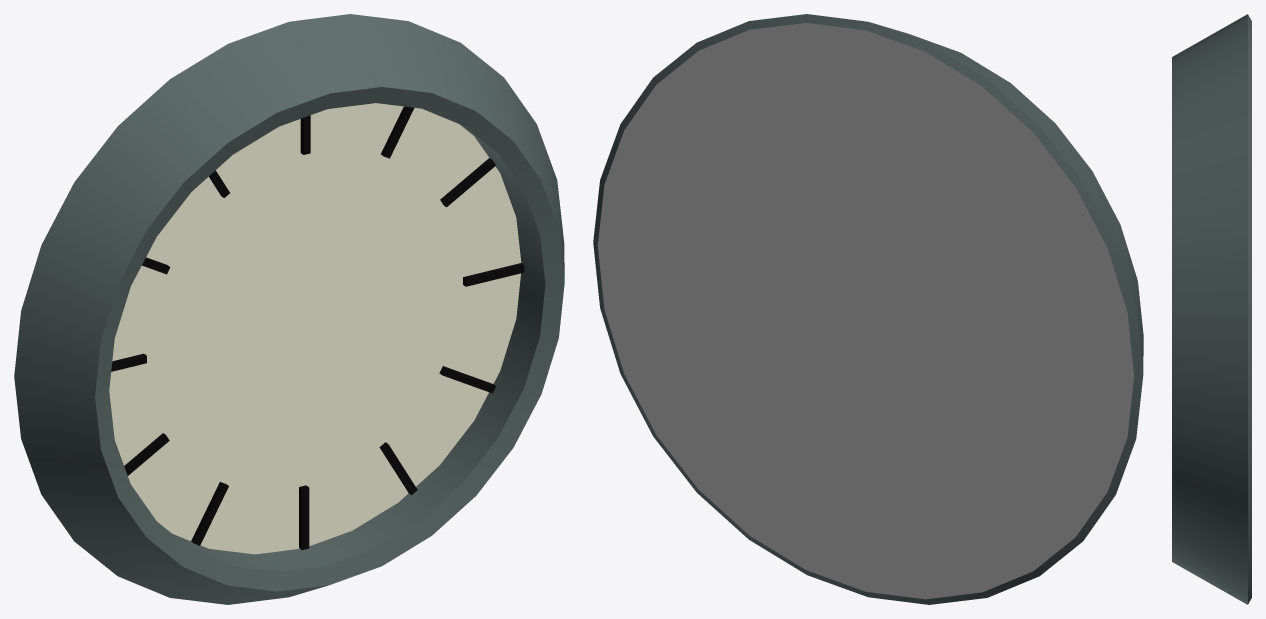
Rendered from reloj.obj.
3 renders of one model, left to right at view 1: azimuth 30°, elevation 25°; view 2: azimuth 150°, elevation 25°; view 3: azimuth 270°, elevation 25°, orthographic. The views are drawn at different scales.
Visible parts, largest first — view 1: polySurface75; view 2: polySurface75; view 3: polySurface75.
Part boxes in pixels (box(x1,y1,x2,y2)): polySurface75: box(14, 14, 564, 604); polySurface75: box(593, 14, 1143, 604); polySurface75: box(1172, 14, 1251, 604).
Bounding box in the file's own units: 2.62 × 2.62 × 0.354.
